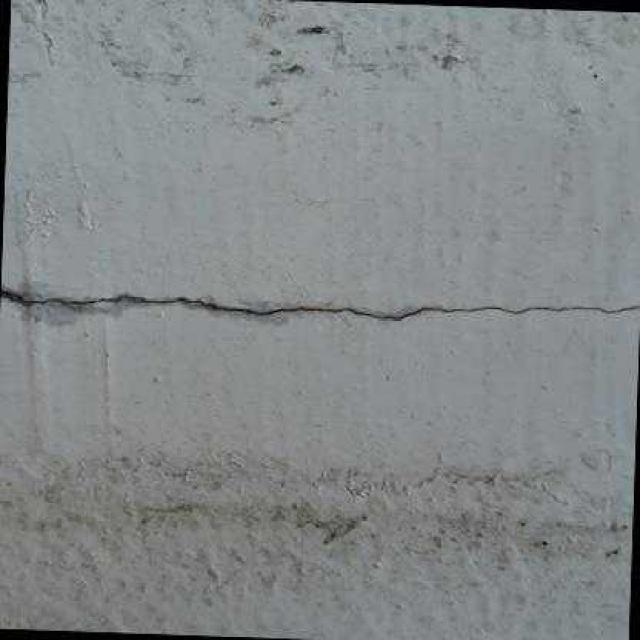D00: (1, 285, 640, 319)
